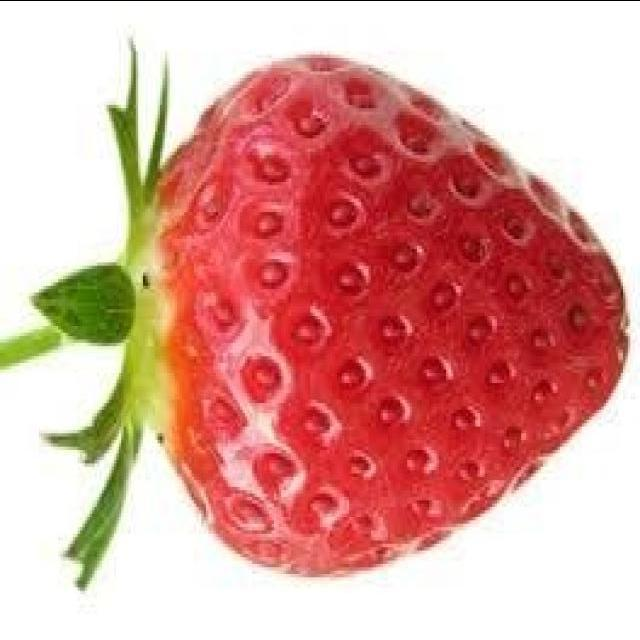ripe: (148, 52, 628, 580)
